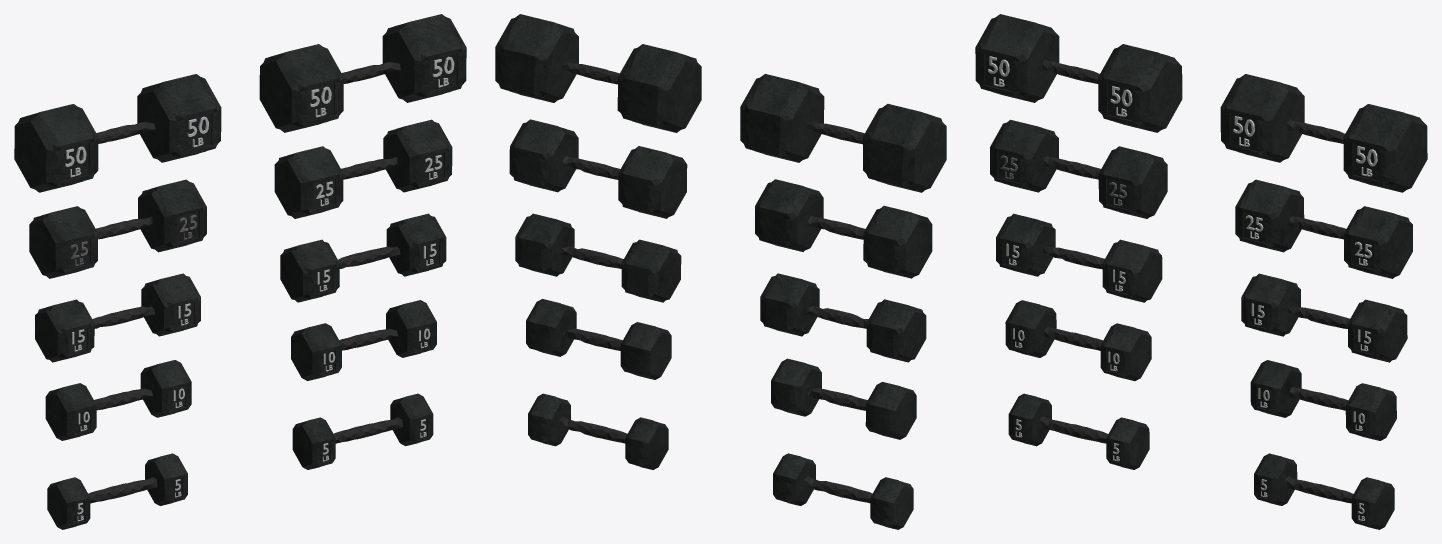
The model's file is dumbbells.compressed.glb.
3 renders of one model, left to right at view 1: azimuth 30°, elevation 25°; view 2: azimuth 150°, elevation 25°; view 3: azimuth 330°, elevation 25°, orthographic.
Parts seen in each view (by area): view 1: mesh.010, mesh.063, mesh.009, mesh.062, mesh.074, mesh.021, mesh.073, mesh.020, mesh.104, mesh.051, mesh.105, mesh.052 (+18 smaller); view 2: mesh.063, mesh.010, mesh.009, mesh.062, mesh.021, mesh.074, mesh.073, mesh.020, mesh.051, mesh.104, mesh.052, mesh.105 (+18 smaller); view 3: mesh.062, mesh.009, mesh.010, mesh.063, mesh.020, mesh.073, mesh.074, mesh.021, mesh.052, mesh.105, mesh.051, mesh.104 (+18 smaller).
Boxes of the visible parts, x1,y1,x2,y2 form: mesh.010: (14, 104, 98, 192); mesh.063: (259, 44, 343, 132); mesh.009: (137, 74, 221, 162); mesh.062: (382, 14, 466, 102); mesh.074: (274, 146, 343, 218); mesh.021: (29, 206, 97, 278); mesh.073: (383, 119, 452, 192); mesh.020: (138, 179, 206, 252); mesh.104: (280, 239, 339, 302); mesh.051: (35, 299, 94, 362); mesh.105: (386, 213, 446, 276); mesh.052: (141, 273, 200, 336); mesh.063: (617, 44, 701, 132); mesh.010: (863, 104, 946, 192); mesh.009: (740, 74, 824, 162); mesh.062: (495, 14, 578, 102); mesh.021: (863, 205, 932, 278); mesh.074: (618, 146, 687, 218); mesh.073: (509, 119, 578, 192); mesh.020: (755, 179, 823, 251); mesh.051: (866, 299, 926, 362); mesh.104: (621, 239, 681, 302); mesh.052: (760, 273, 819, 336); mesh.105: (515, 213, 574, 276); mesh.062: (1343, 104, 1427, 192); mesh.009: (1098, 44, 1182, 132); mesh.010: (975, 14, 1059, 102); mesh.063: (1220, 74, 1304, 162); mesh.020: (1098, 146, 1167, 218); mesh.073: (1344, 206, 1412, 278); mesh.074: (1235, 179, 1304, 252); mesh.021: (990, 119, 1058, 192); mesh.052: (1102, 239, 1162, 302); mesh.105: (1348, 299, 1407, 362); mesh.051: (996, 213, 1055, 276); mesh.104: (1241, 273, 1300, 336).
Bounding box in the file's own units: 0.724 × 0.6981 × 0.1156.
4 materials, 3 textured.
